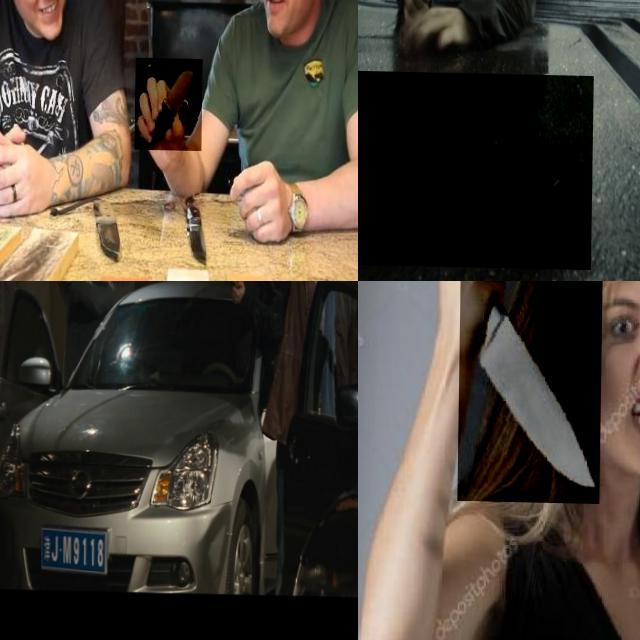-: (458, 281, 603, 502), (136, 56, 203, 150)
gun-knife-thesis - v11 Yolov5 augmented: (358, 70, 594, 268), (253, 281, 278, 306), (224, 281, 246, 299), (54, 281, 70, 298)
